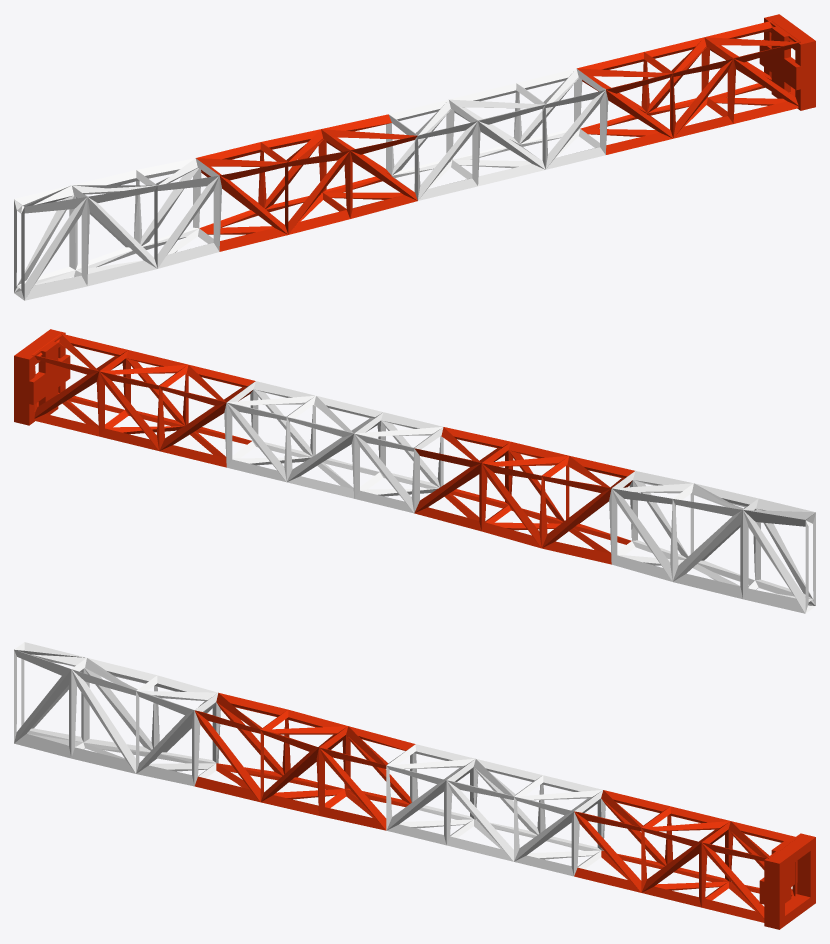
The model's file is crane_arm1.glb.
3 views of the same model, one above another, from view 1: azimuth 30°, elevation 25°; view 2: azimuth 150°, elevation 25°; view 3: azimuth 330°, elevation 25° (orthographic).
Visible parts, largest first — view 1: SEP_beam; view 2: SEP_beam; view 3: SEP_beam.
Part boxes in pixels (x1,y1,x2,y2): SEP_beam: [14, 14, 815, 300]; SEP_beam: [14, 329, 815, 613]; SEP_beam: [14, 642, 815, 929].
Bounding box in the file's own units: 88.85 × 10.25 × 7.23.
